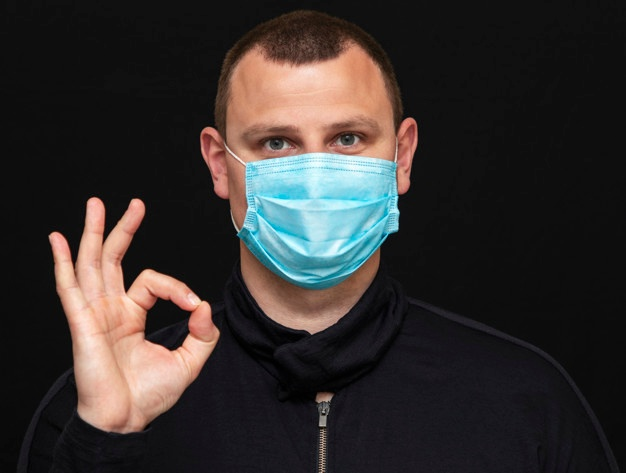with_mask: (235, 109, 383, 284)
